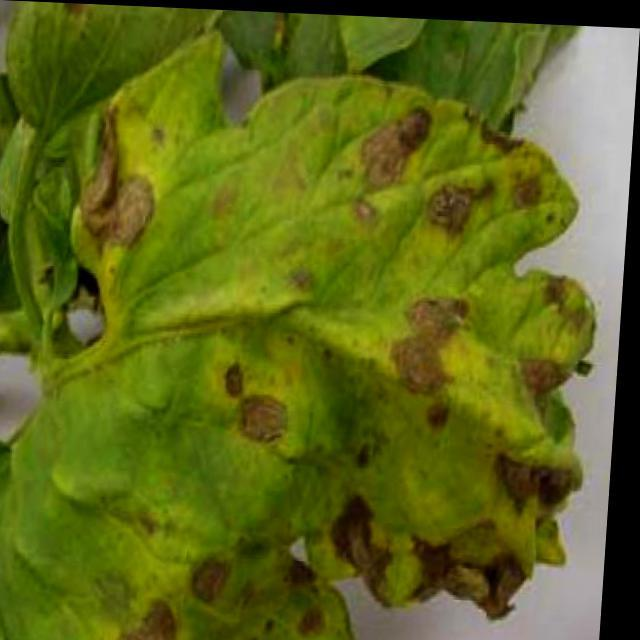Tomato Early blight leaf: (4, 43, 613, 639)
